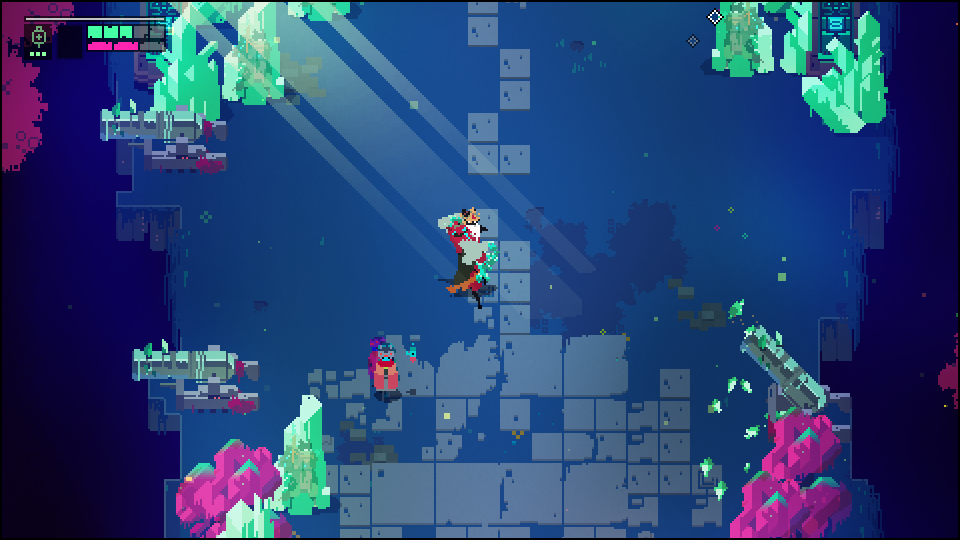hanged_man: (432, 207, 500, 305)
player: (370, 345, 401, 407)
